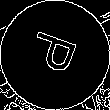P_E: (25, 29, 85, 81)
